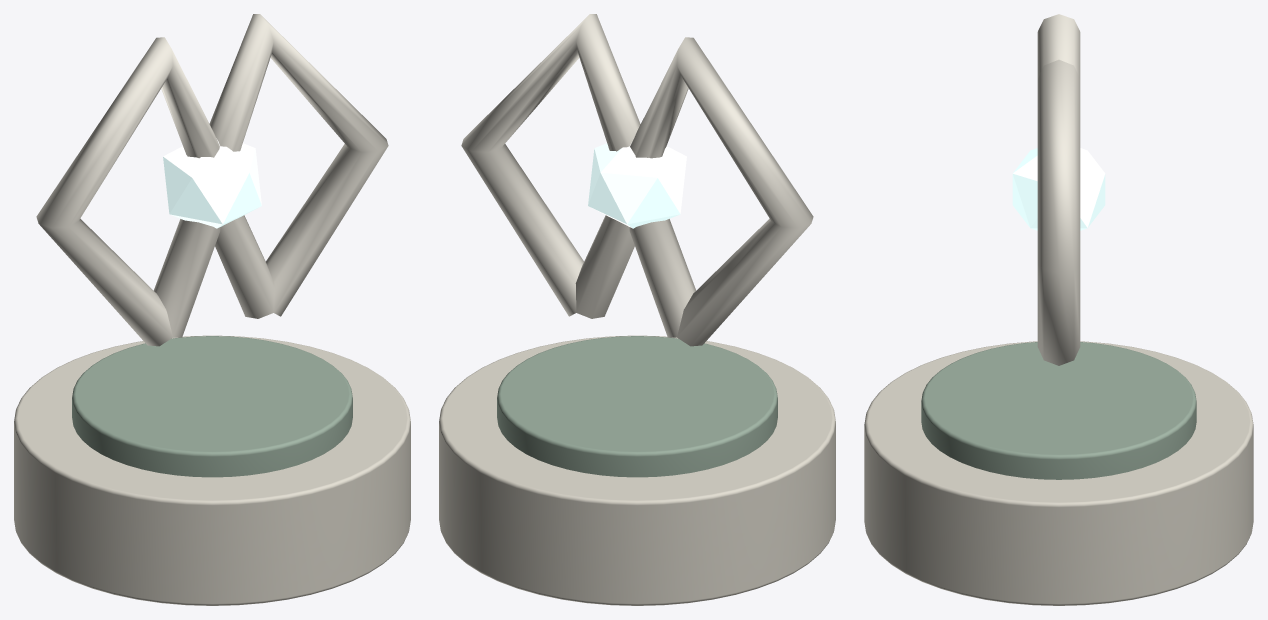
Rendered from BG_MEC_SURFACE_WORLD_SWITCH_001.glb.
The picture shows the model from 3 angles, left to right: view 1: azimuth 30°, elevation 25°; view 2: azimuth 150°, elevation 25°; view 3: azimuth 270°, elevation 25°; orthographic projection.
Visible parts, largest first — view 1: Low stone pedestal, Pedestal collar, Twin diamond SwitchA, Twin diamond SwitchB, Shared center; view 2: Low stone pedestal, Pedestal collar, Twin diamond SwitchA, Twin diamond SwitchB, Shared center; view 3: Low stone pedestal, Pedestal collar, Twin diamond SwitchB, Shared center, Twin diamond SwitchA.
Part boxes in pixels (<box>): Low stone pedestal: <box>14,335,410,605</box>; Pedestal collar: <box>72,336,352,477</box>; Twin diamond SwitchA: <box>36,37,220,346</box>; Twin diamond SwitchB: <box>209,14,388,318</box>; Shared center: <box>163,138,261,228</box>; Low stone pedestal: <box>439,335,835,605</box>; Pedestal collar: <box>497,336,777,477</box>; Twin diamond SwitchA: <box>629,37,813,346</box>; Twin diamond SwitchB: <box>461,14,640,318</box>; Shared center: <box>588,143,686,228</box>; Low stone pedestal: <box>864,341,1253,605</box>; Pedestal collar: <box>921,342,1196,479</box>; Twin diamond SwitchB: <box>1037,59,1080,365</box>; Shared center: <box>1012,148,1105,230</box>; Twin diamond SwitchA: <box>1037,14,1080,79</box>.
Size of the model in its own units: 0.83 by 1.13 by 0.82.
Materials: 4 (1 with a texture image).
